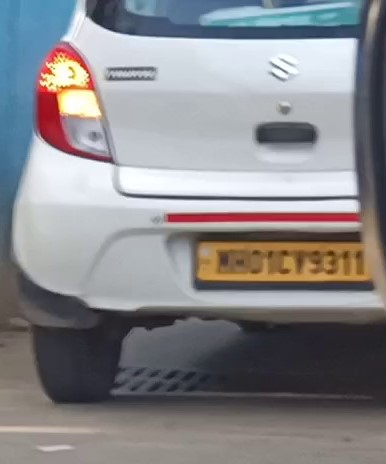MHD1CV9311: (195, 240, 373, 281)
